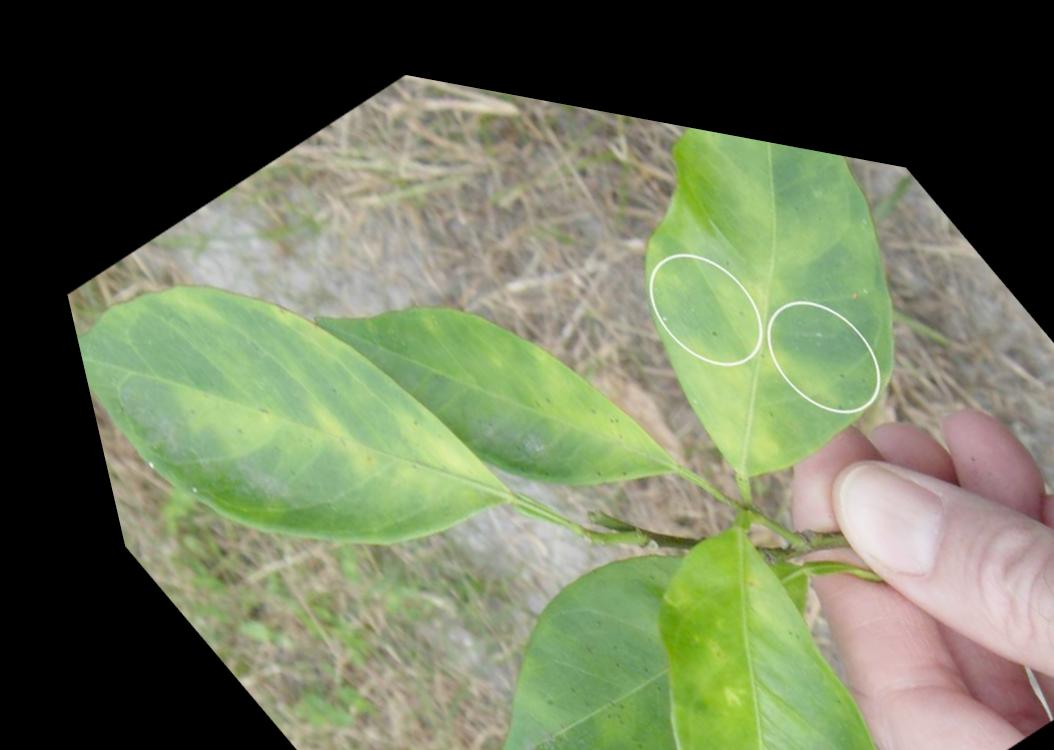Citrus Greening: (29, 158, 537, 675), (272, 170, 684, 573), (463, 457, 948, 750)
